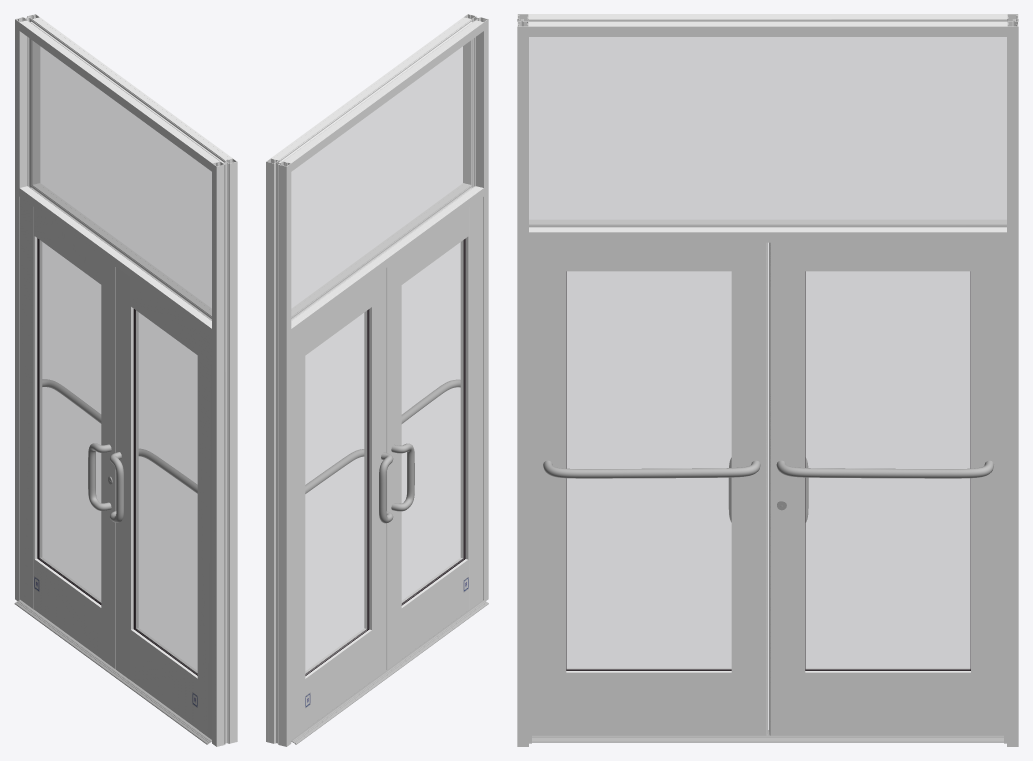
The model's file is Transomed_D500_Pair_Animated_WT.glb.
3 views of the same model, side by side, from view 1: azimuth 30°, elevation 25°; view 2: azimuth 150°, elevation 25°; view 3: azimuth 270°, elevation 25° (orthographic). The views are drawn at different scales.
Parts seen in each view (by area): view 1: D500.030, D500.029, D500.016, PROFILE_curve_.018, D500, D500.025, PROFILE_curve_.023, D500.001, PROFILE_curve_.019, D500.010, D500.011, D500.026 (+14 smaller); view 2: D500.030, D500.016, D500.029, PROFILE_curve_.022, D500.001, D500.010, PROFILE_curve_.019, D500.025, D500, PROFILE_curve_.023, D500.011, D500.026 (+14 smaller); view 3: D500.030, D500.016, D500.029, D500.025, D500.010, D500.001, D500, D500.026, D500.011, PROFILE_curve_.023, PROFILE_curve_.019, PROFILE_curve_.008 (+10 smaller).
Boxes of the visible parts, x1,y1,x2,y2 form: D500.030: (28, 38, 211, 319); D500.029: (134, 309, 197, 674); D500.016: (37, 239, 100, 603); PROFILE_curve_.018: (218, 161, 235, 746); D500: (20, 197, 42, 609); D500.025: (116, 267, 138, 680); PROFILE_curve_.023: (15, 14, 40, 601); D500.001: (197, 327, 211, 739); PROFILE_curve_.019: (212, 158, 237, 746); D500.010: (101, 256, 115, 669); D500.011: (34, 557, 101, 658); D500.026: (131, 628, 197, 728); D500.030: (291, 38, 474, 319); D500.016: (305, 310, 368, 674); D500.029: (402, 239, 465, 604); PROFILE_curve_.022: (268, 162, 284, 746); D500.001: (460, 197, 483, 609); D500.010: (364, 268, 386, 680); PROFILE_curve_.019: (463, 14, 488, 601); D500.025: (386, 257, 401, 669); D500: (291, 327, 305, 739); PROFILE_curve_.023: (266, 158, 291, 746); D500.011: (305, 628, 371, 729); D500.026: (401, 558, 468, 658); D500.030: (529, 37, 1006, 226); D500.016: (806, 271, 970, 670); D500.029: (567, 271, 731, 670); D500.025: (731, 242, 768, 735); D500.010: (769, 242, 805, 735); D500.001: (532, 242, 566, 735); D500: (971, 242, 1003, 735); D500.026: (566, 668, 731, 735); D500.011: (805, 668, 970, 735); PROFILE_curve_.023: (1007, 14, 1018, 746); PROFILE_curve_.019: (517, 14, 528, 746); PROFILE_curve_.008: (529, 219, 1006, 242).
Bounding box in the file's own units: 0.2162 × 3.05 × 1.92.
Materials: 7 (1 with a texture image).
